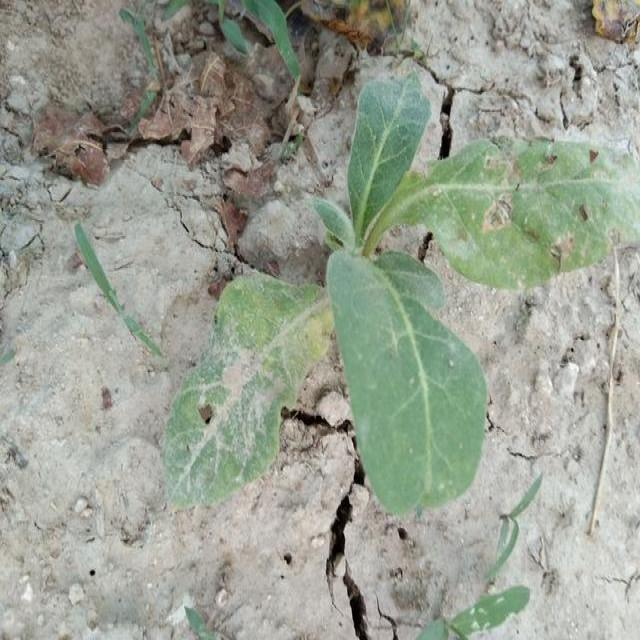crop: (164, 71, 623, 526)
